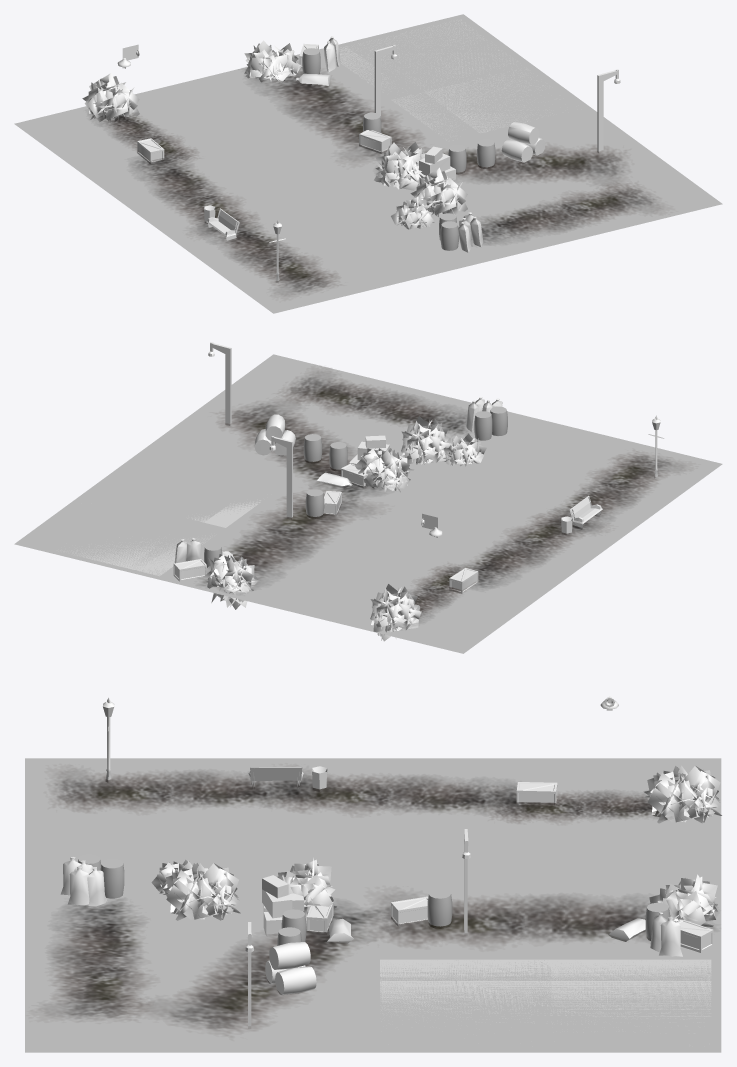
File: propsonly_malt-mid.gltf
3 views of the same model, one above another, from view 1: azimuth 30°, elevation 25°; view 2: azimuth 150°, elevation 25°; view 3: azimuth 270°, elevation 25° (orthographic). The views are drawn at different scales.
Visible parts, largest first — view 1: file_b2_ground1.058, file_b2_ground1.054, file_b2_ground2.007, file_b2_ground3.033, file_b2_ground1.059, file_b2_ground1.055, file_b2_ground4.006, file_b2_ground1.053, file_b2_ground1.052, file_b2_ground1.057, file_b2_ground3.032, file_b2_ground1.056 (+25 smaller); view 2: file_b2_ground1.058, file_b2_ground1.057, file_b2_ground1.059, file_b2_ground2.007, file_b2_ground1.055, file_b2_ground3.033, file_b2_ground1.054, file_b2_ground1.056, file_b1_ground.003, file_b2_ground3.032, file_b2_ground1.052, file_b2_ground1.053 (+26 smaller); view 3: file_b2_ground1.058, file_b2_ground3.033, FeedbackBlocker.028, file_b2_ground3.032, file_b2_ground2.007, file_b2_ground1.056, file_b2_ground1.055, file_b2_ground1.052, file_b2_ground1.054, file_b2_ground1.057, file_b2_ground3.028, file_b2_ground1.059 (+27 smaller).
Boxes of the visible parts, <box> form: file_b2_ground1.058: <box>204,233,393,313</box>; file_b2_ground1.054: <box>193,115,376,194</box>; file_b2_ground2.007: <box>343,14,532,93</box>; file_b2_ground3.033: <box>550,153,722,233</box>; file_b2_ground1.059: <box>135,68,313,147</box>; file_b2_ground1.055: <box>77,148,266,219</box>; file_b2_ground4.006: <box>14,94,203,169</box>; file_b2_ground1.053: <box>314,214,503,286</box>; file_b2_ground1.052: <box>432,182,601,259</box>; file_b2_ground1.057: <box>414,61,592,133</box>; file_b2_ground3.032: <box>470,107,652,186</box>; file_b2_ground1.056: <box>141,191,323,266</box>; file_b2_ground1.058: <box>533,435,722,514</box>; file_b2_ground1.057: <box>77,447,266,522</box>; file_b2_ground1.059: <box>235,547,416,626</box>; file_b2_ground2.007: <box>14,498,192,573</box>; file_b2_ground1.055: <box>407,532,595,607</box>; file_b2_ground3.033: <box>206,354,393,429</box>; file_b2_ground1.054: <box>306,505,476,580</box>; file_b2_ground1.056: <box>470,481,652,556</box>; file_b1_ground.003: <box>360,461,538,531</box>; file_b2_ground3.032: <box>143,400,329,479</box>; file_b2_ground1.052: <box>315,381,474,453</box>; file_b2_ground1.053: <box>437,411,612,484</box>; file_b2_ground1.058: <box>25,758,211,837</box>; file_b2_ground3.033: <box>25,973,211,1052</box>; FeedbackBlocker.028: <box>380,959,711,1033</box>; file_b2_ground3.032: <box>194,973,381,1052</box>; file_b2_ground2.007: <box>534,981,721,1052</box>; file_b2_ground1.056: <box>194,758,381,837</box>; file_b2_ground1.055: <box>364,758,551,837</box>; file_b2_ground1.052: <box>25,902,211,980</box>; file_b2_ground1.054: <box>364,830,551,901</box>; file_b2_ground1.057: <box>364,981,551,1052</box>; file_b2_ground3.028: <box>364,902,551,980</box>; file_b2_ground1.059: <box>534,830,721,901</box>.
Size of what is drawn, in the model's own units: 4.13 by 0.9485 by 4.17.
